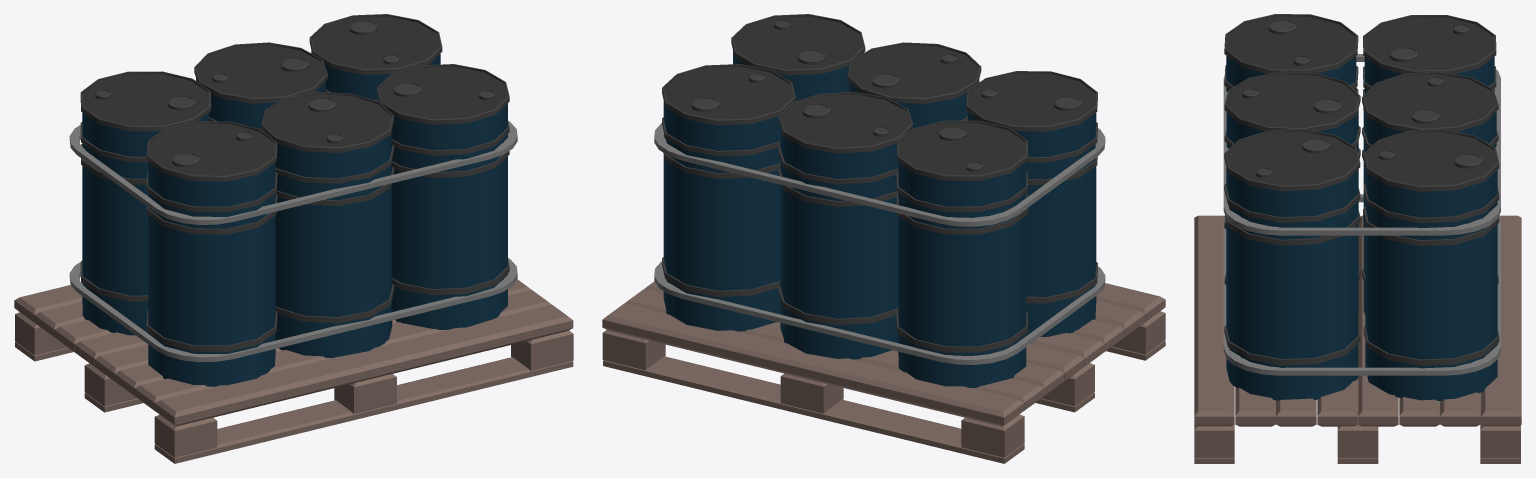
File: props_40.glb
The picture shows the model from 3 angles, left to right: view 1: azimuth 30°, elevation 25°; view 2: azimuth 150°, elevation 25°; view 3: azimuth 270°, elevation 25°; orthographic projection. The views are drawn at different scales.
Parts seen in each view (by area): view 1: props_40; view 2: props_40; view 3: props_40.
Boxes of the visible parts, bbox=[...] form: props_40: bbox=[14, 14, 573, 463]; props_40: bbox=[602, 14, 1165, 463]; props_40: bbox=[1194, 14, 1521, 463].
Bounding box in the file's own units: 2.85 × 1.79 × 1.99.
1 material, 1 textured.
